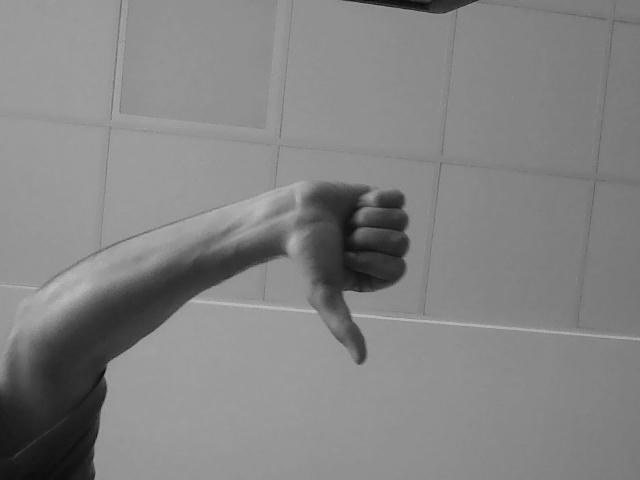bad: (283, 142, 432, 379)
